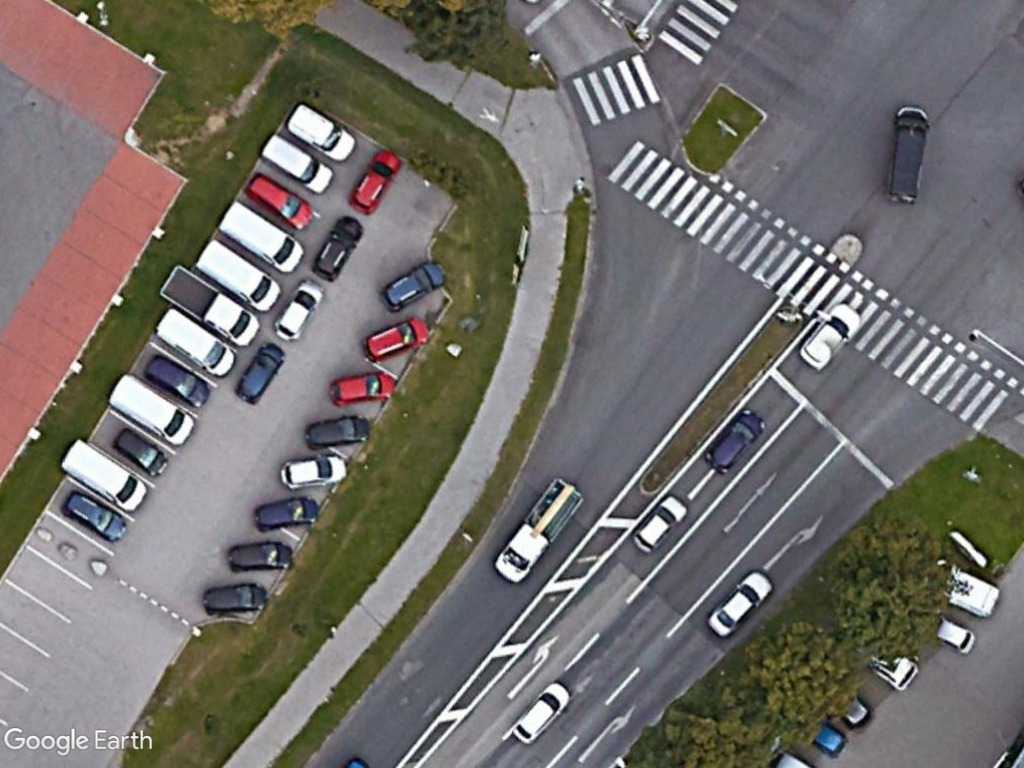car: (793, 299, 870, 371), (705, 571, 778, 641), (702, 406, 769, 475), (507, 679, 576, 746), (139, 352, 216, 411), (345, 142, 402, 218), (60, 485, 130, 544), (629, 492, 690, 559), (357, 311, 432, 364), (232, 337, 290, 405), (309, 211, 366, 279), (380, 256, 448, 313), (270, 276, 324, 346), (109, 425, 170, 478), (299, 412, 373, 455), (276, 450, 351, 492), (325, 367, 398, 408), (251, 493, 323, 534), (199, 580, 272, 619), (225, 539, 297, 575)
other: (487, 474, 584, 588), (156, 262, 261, 346)
van: (55, 433, 150, 513), (213, 197, 306, 275), (103, 371, 195, 449), (192, 238, 283, 316), (151, 303, 238, 379), (881, 103, 936, 206), (259, 129, 337, 198), (284, 100, 359, 166), (241, 171, 316, 231)
